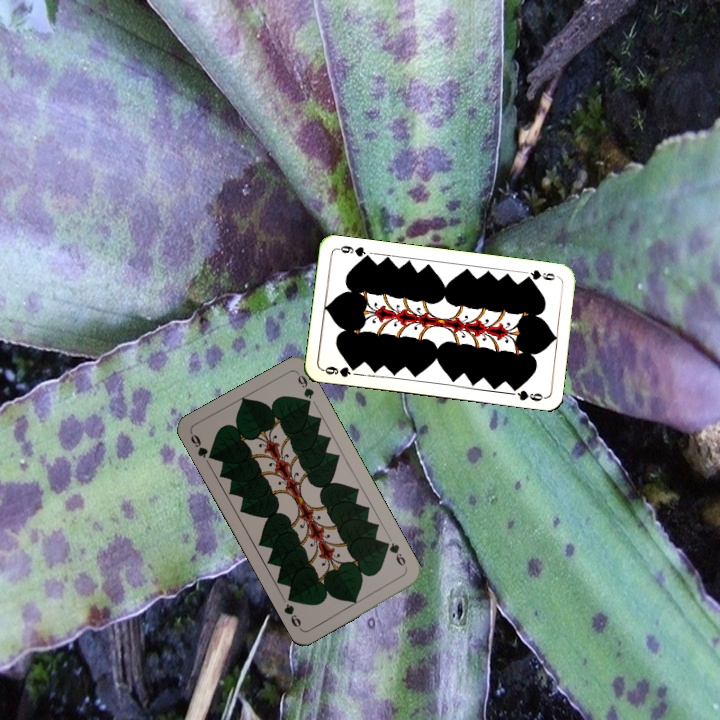G9: (186, 429, 218, 463), (380, 538, 410, 572), (319, 362, 360, 380), (521, 266, 561, 283)
